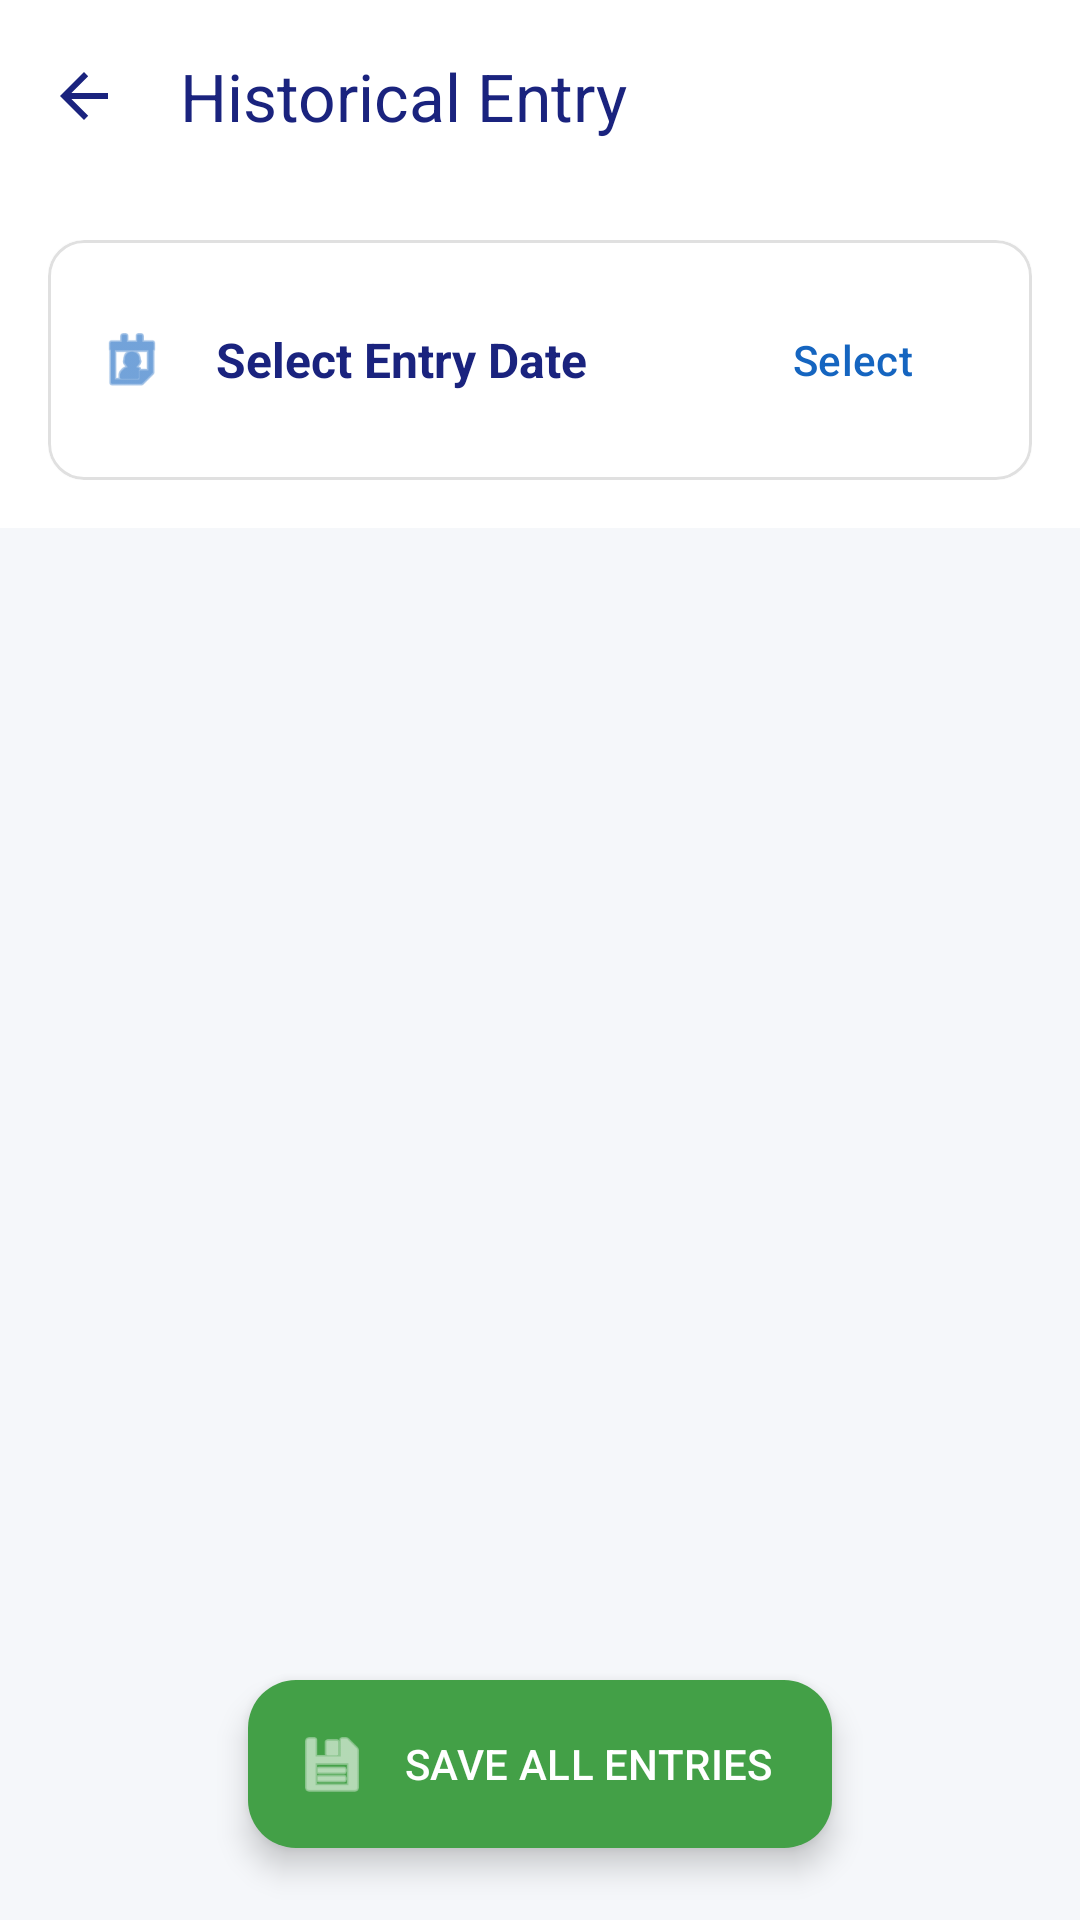

Point at icon controls on the screen. Image size 1080x1920, points as point (x, y).
calendar: point (132, 359)
